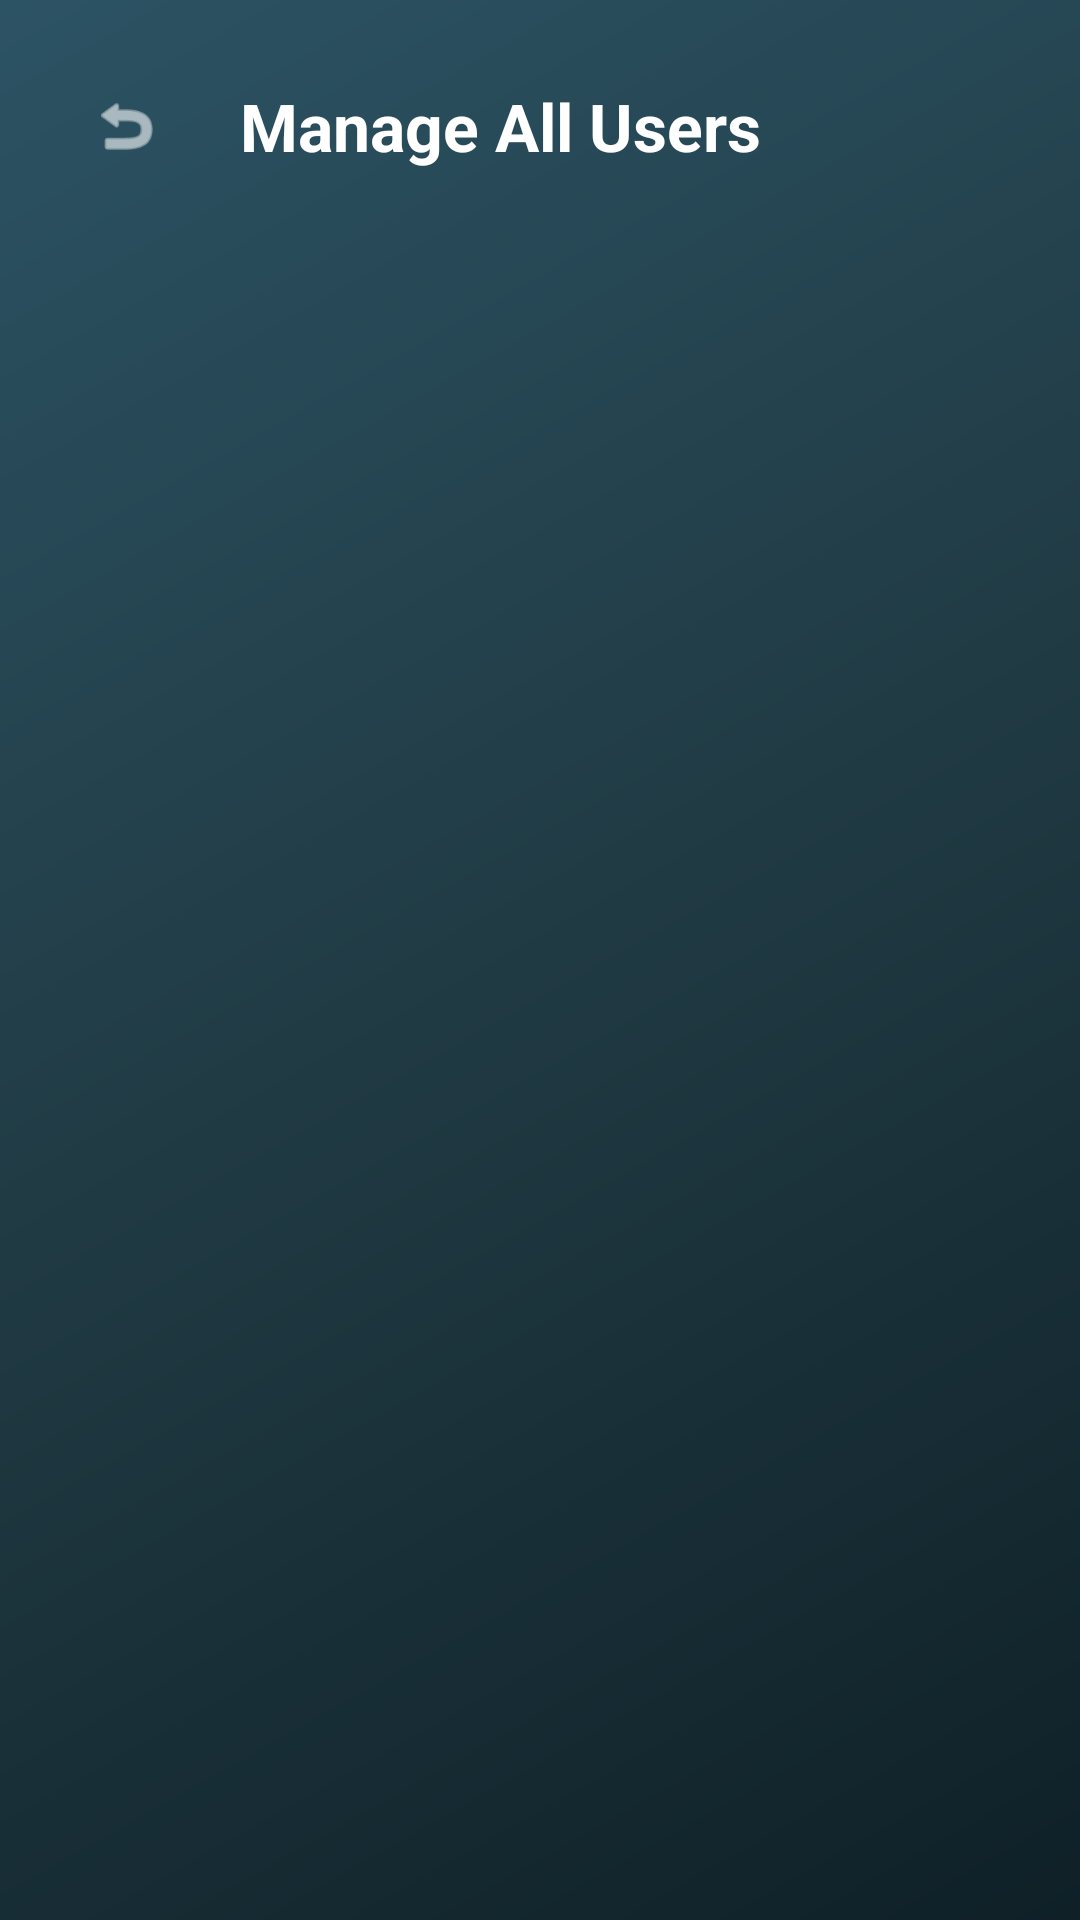

Point at icon controls on the screen. Image size 1080 × 1920, points as [x,y].
revert: [127,126]
